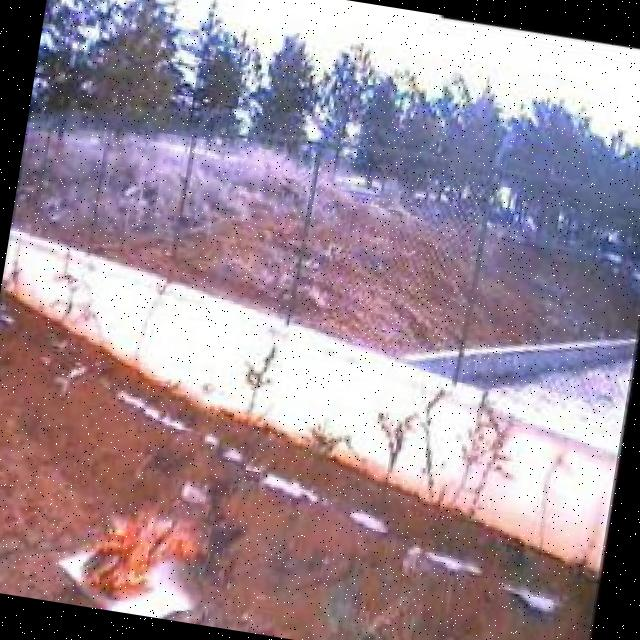fire: (74, 504, 213, 614)
